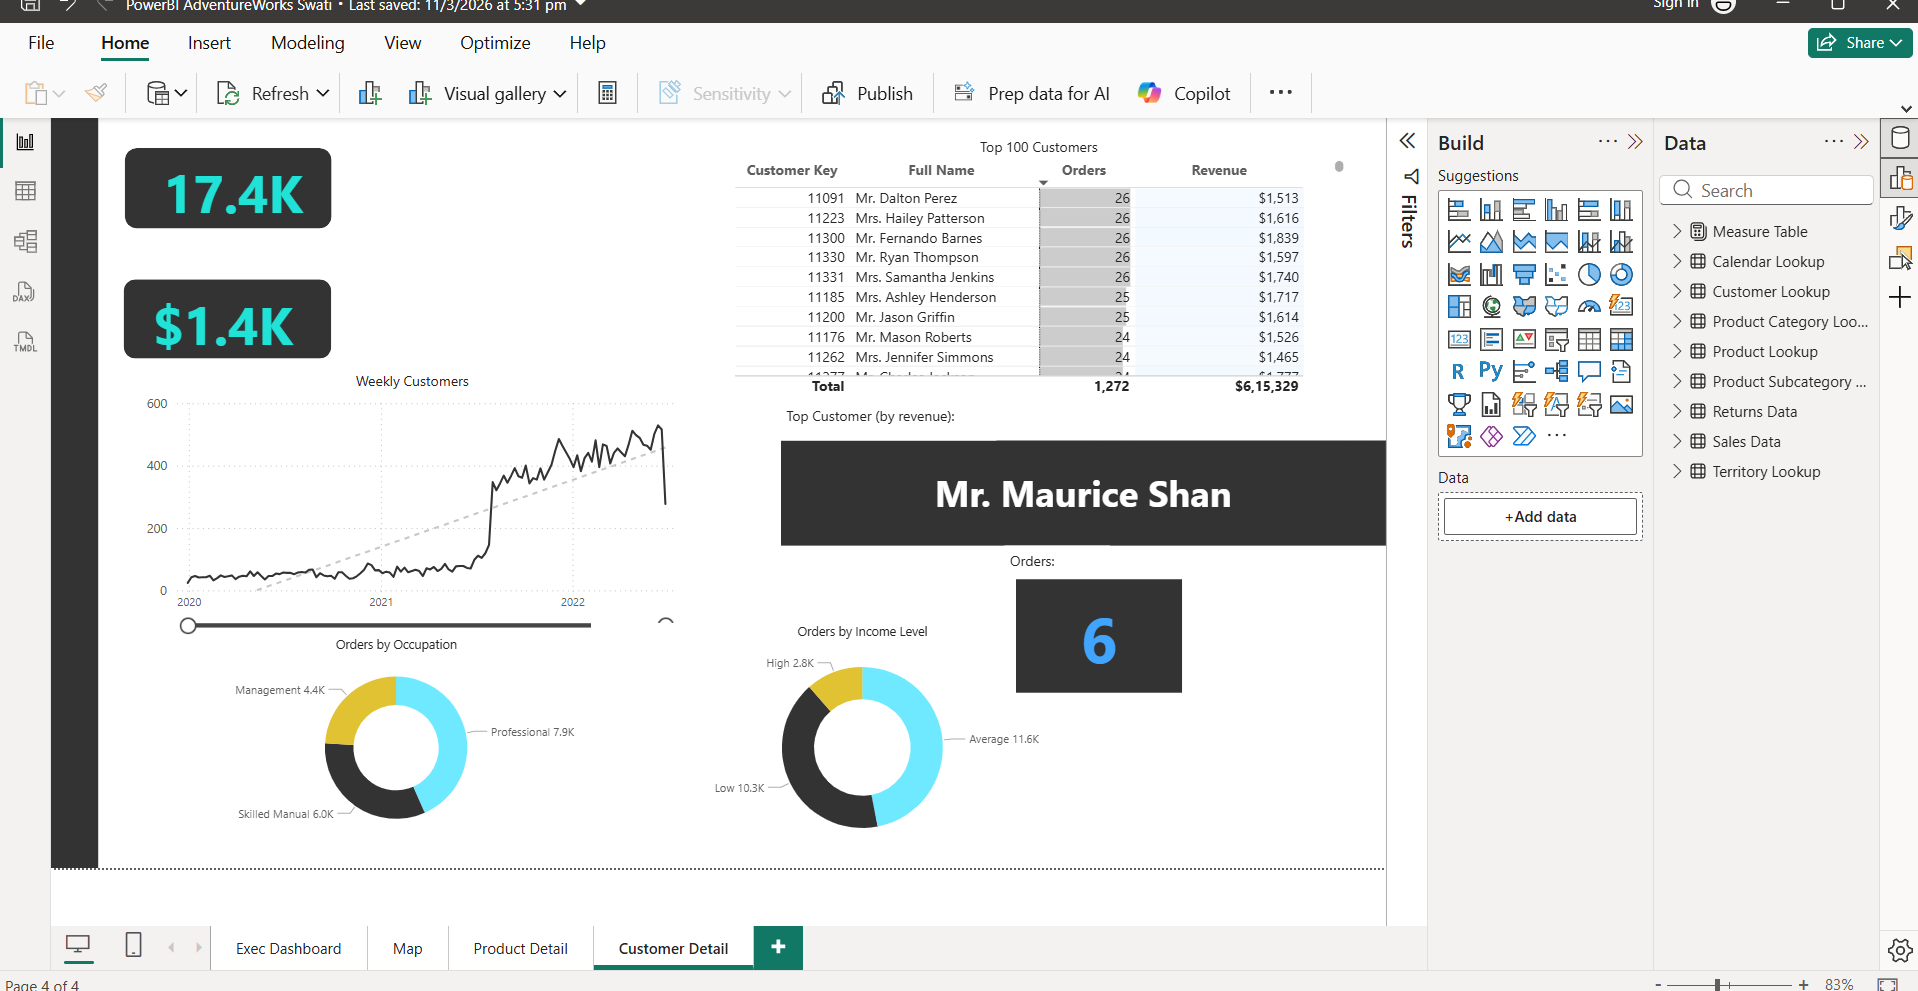

This screenshot's page, from the dashboard's own definition file:
{"tool":"powerbi","page":{"name":"Customer Detail","canvas":[1280,720],"ordinal":3},"visuals":[{"type":"shape","box":[0,0,45.3,720],"z":0},{"type":"shape","box":[70,155,199.4,76.1],"z":1000},{"type":"shape","box":[71.1,28.3,198.3,77.2],"z":2000},{"type":"card","fields":{"Values":["Measure Table.Average Revenue Per Customer"]},"box":[70,126.9,190.9,155.5],"z":3000},{"type":"card","fields":{"Values":["Measure Table.Total Customers"]},"box":[78.5,0,190.9,155.5],"z":4000},{"type":"lineChart","title":"Weekly Customers","fields":{"Category":["Calendar Lookup.Start of Week"],"Y":["Measure Table.Total Customers"]},"box":[85.8,242.5,520,255],"z":5000},{"type":"donutChart","title":"Orders by Income Level","fields":{"Category":["Customer Lookup.Income Level"],"Y":["Measure Table.Total Orders"]},"box":[517.3,484.7,520.7,223.2],"z":6000},{"type":"donutChart","title":"Orders by Occupation","fields":{"Y":["Measure Table.Total Orders"],"Category":["Customer Lookup.Occupation"]},"box":[70.3,496.6,520.7,199.5],"z":7000},{"type":"tableEx","title":"Top 100 Customers","fields":{"Values":["Customer Lookup.CustomerKey","Customer Lookup.FullName","Measure Table.Total Orders","Measure Table.Total Revenue"]},"box":[649.2,18,595.1,252.5],"z":8000},{"type":"card","fields":{"Values":["Min(Customer Lookup.FullName)"]},"box":[699.9,309.2,580.1,100.7],"z":9000},{"type":"textbox","box":[699.9,270.9,206.1,38.4],"z":10000},{"type":"card","fields":{"Values":["Measure Table.Total Orders"]},"box":[925.2,442.2,159.4,109.1],"z":11000},{"type":"textbox","box":[914.5,409.9,100.7,32.4],"z":12000},{"type":"card","box":[977.1,561.8,241.8,157.9],"z":12001}]}

Visuals, with their boxes on the page's 1280x720 design canvas (x1, y1, x2, y2). These are canvas units, not pixel positions in the 1918x991 screenshot, which may show the page scaled, cropped or inside an application window:
shape: region(0, 0, 45, 720)
shape: region(70, 155, 269, 231)
shape: region(71, 28, 269, 106)
card - Measure Table.Average Revenue Per Customer: region(70, 127, 261, 282)
card - Measure Table.Total Customers: region(78, 0, 269, 156)
"Weekly Customers" lineChart: region(86, 242, 606, 498)
"Orders by Income Level" donutChart: region(517, 485, 1038, 708)
"Orders by Occupation" donutChart: region(70, 497, 591, 696)
"Top 100 Customers" tableEx: region(649, 18, 1244, 270)
card - Min(Customer Lookup.FullName): region(700, 309, 1280, 410)
textbox: region(700, 271, 906, 309)
card - Measure Table.Total Orders: region(925, 442, 1085, 551)
textbox: region(914, 410, 1015, 442)
card: region(977, 562, 1219, 720)
